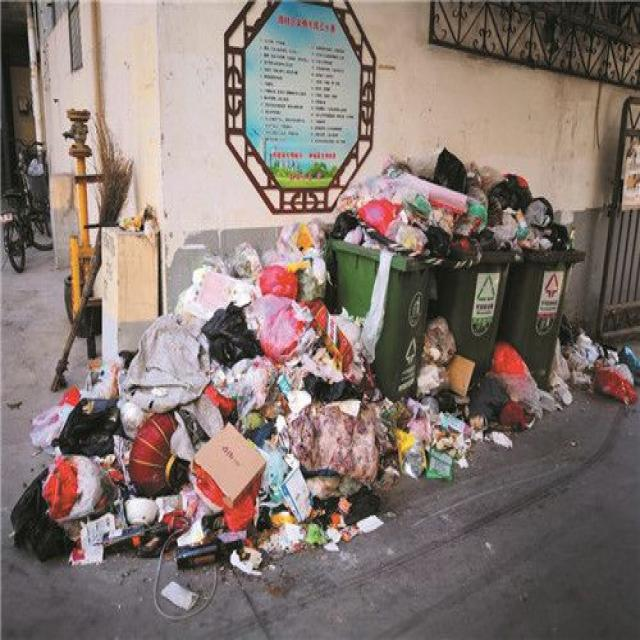garbage: (9, 223, 639, 618)
overflow: (331, 157, 443, 398), (501, 169, 584, 386), (435, 147, 513, 370)
